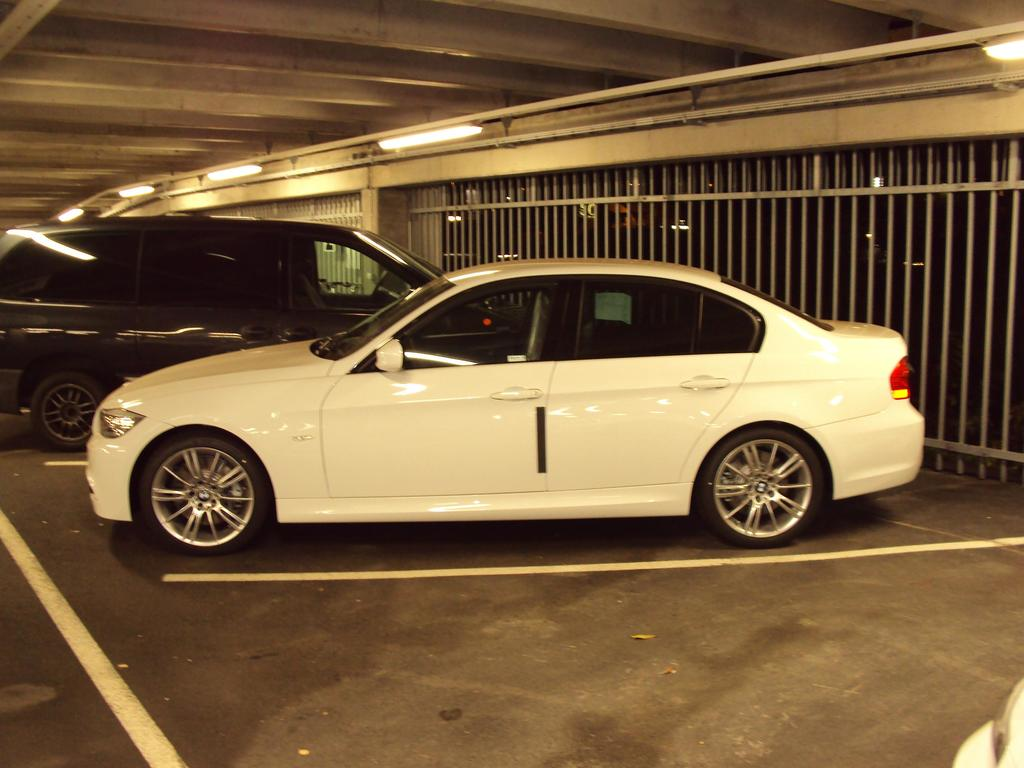cars: (87, 253, 926, 557), (0, 216, 446, 449)
